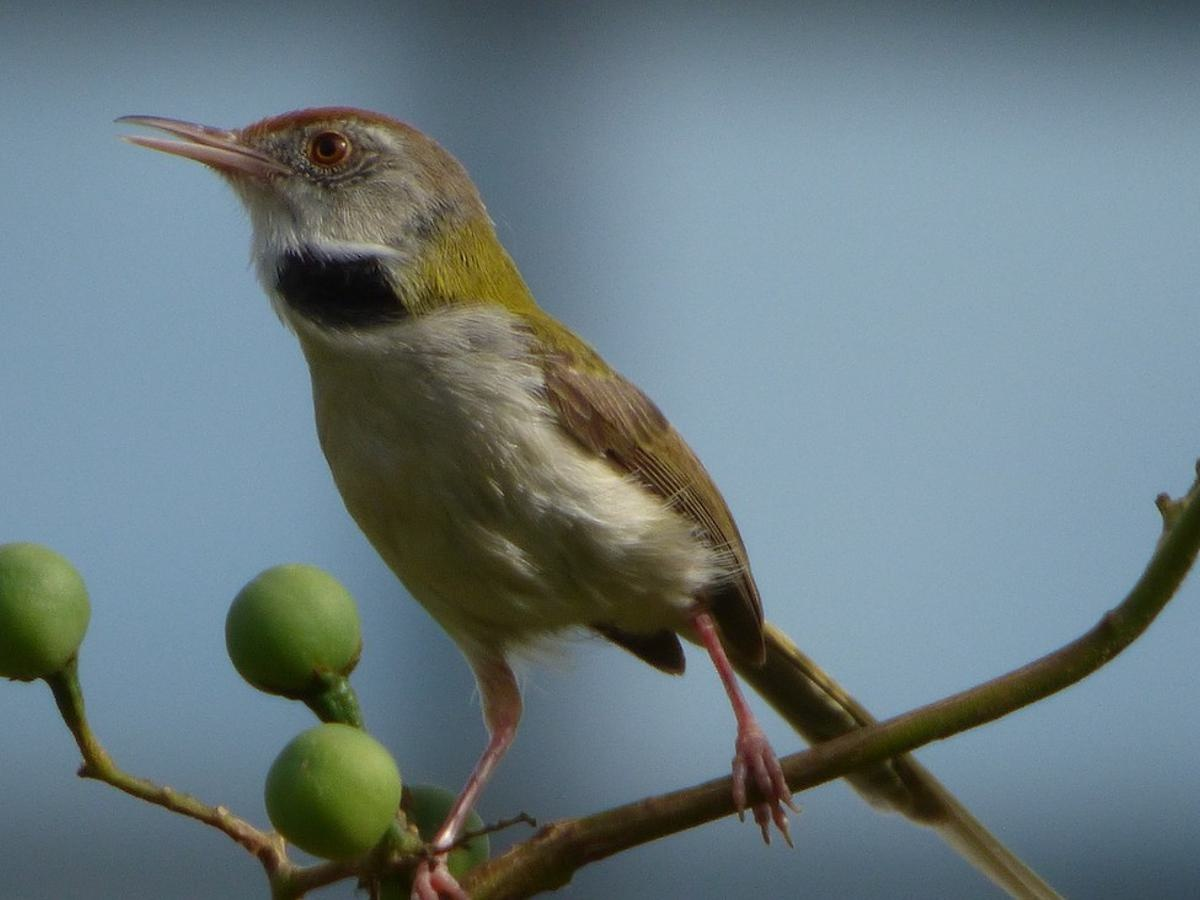tailorbird: (146, 87, 926, 836)
